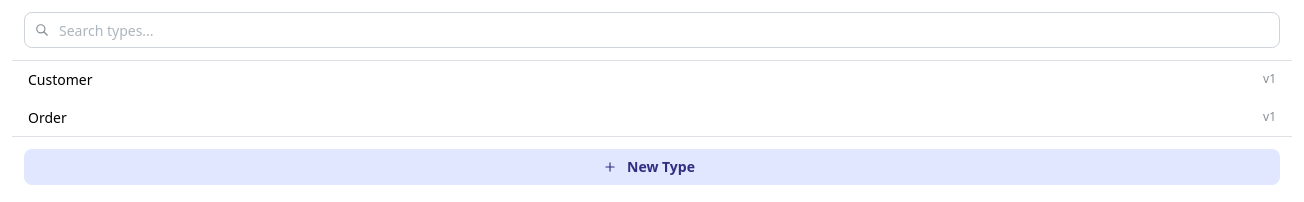
Test case: TypeList › shows no types found when filter matches nothing
Type "zzz" into the field with placeholder "Search types..." at (652, 30), box [24,12,1280,48]
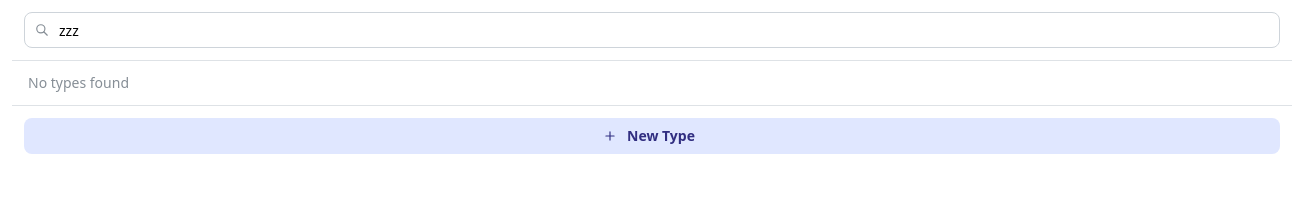
Now the text "No types found" is shown, box [28,73,129,92]
